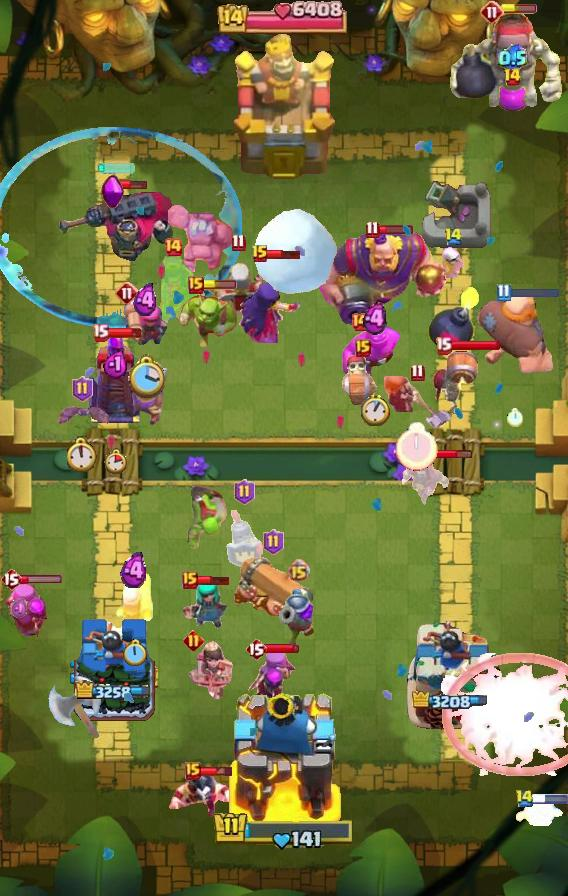axe: (46, 673, 104, 745)
bar: (449, 339, 501, 351), (508, 287, 560, 299), (420, 449, 473, 460), (12, 574, 63, 585), (264, 643, 300, 655), (106, 327, 142, 339), (199, 765, 234, 777), (377, 224, 414, 235), (195, 575, 231, 586), (266, 249, 302, 260), (112, 179, 148, 190), (531, 794, 568, 804), (201, 280, 237, 290), (501, 4, 537, 14)
bar-level: (115, 281, 139, 305), (480, 0, 504, 24), (263, 529, 284, 555), (234, 479, 255, 505), (72, 376, 93, 402), (287, 559, 310, 582), (245, 637, 267, 661), (0, 567, 22, 591), (183, 630, 204, 651), (350, 312, 370, 332), (163, 237, 183, 257), (503, 67, 522, 87), (515, 789, 534, 808), (444, 227, 463, 246), (251, 244, 269, 264), (435, 336, 452, 355), (92, 323, 109, 342), (185, 762, 201, 780), (182, 571, 198, 589), (355, 339, 371, 357), (188, 276, 204, 294), (410, 363, 425, 382), (496, 283, 511, 302), (231, 233, 246, 252), (365, 220, 380, 239)
bat: (54, 402, 110, 428)
bomb: (427, 284, 481, 352)
clock: (396, 422, 438, 471), (127, 354, 165, 400), (67, 436, 98, 472), (361, 394, 390, 426), (122, 639, 147, 668), (104, 448, 127, 474), (507, 408, 523, 427)
electro-wizard: (165, 768, 241, 822)
elixir: (120, 552, 149, 590), (133, 283, 159, 318), (498, 44, 527, 73), (363, 302, 387, 336), (103, 349, 127, 378), (11, 597, 29, 620)
elixir-golem-mid: (341, 324, 409, 380)
elixir-golem-small: (496, 81, 528, 111)
evolution-symbol: (101, 175, 125, 211)
firecracker: (123, 295, 169, 351), (113, 570, 155, 628)
goblin-ball: (179, 486, 229, 552)
goblin-brawler: (178, 290, 240, 350)
golemite: (168, 202, 234, 274)
guard: (225, 509, 263, 571)
ice-spirit: (515, 796, 565, 826)
king-tower: (227, 688, 342, 826), (231, 34, 338, 181)
king-tower-bar: (212, 810, 356, 852), (217, 0, 351, 34)
mother-witch: (245, 648, 297, 718), (0, 579, 48, 647)
musketeer: (279, 586, 317, 652), (129, 368, 167, 428)
princess: (185, 641, 235, 699)
queen-tower: (404, 617, 502, 731), (70, 616, 158, 731)
rascal-girl: (180, 578, 228, 630)
skeleton: (439, 246, 467, 278)
tower-bar: (412, 691, 494, 713), (75, 680, 153, 703)
valkyrie: (382, 374, 452, 430)
wall-breaker: (431, 349, 481, 417), (337, 353, 389, 407)
witch: (239, 255, 303, 343)
wizard: (400, 454, 450, 508)
